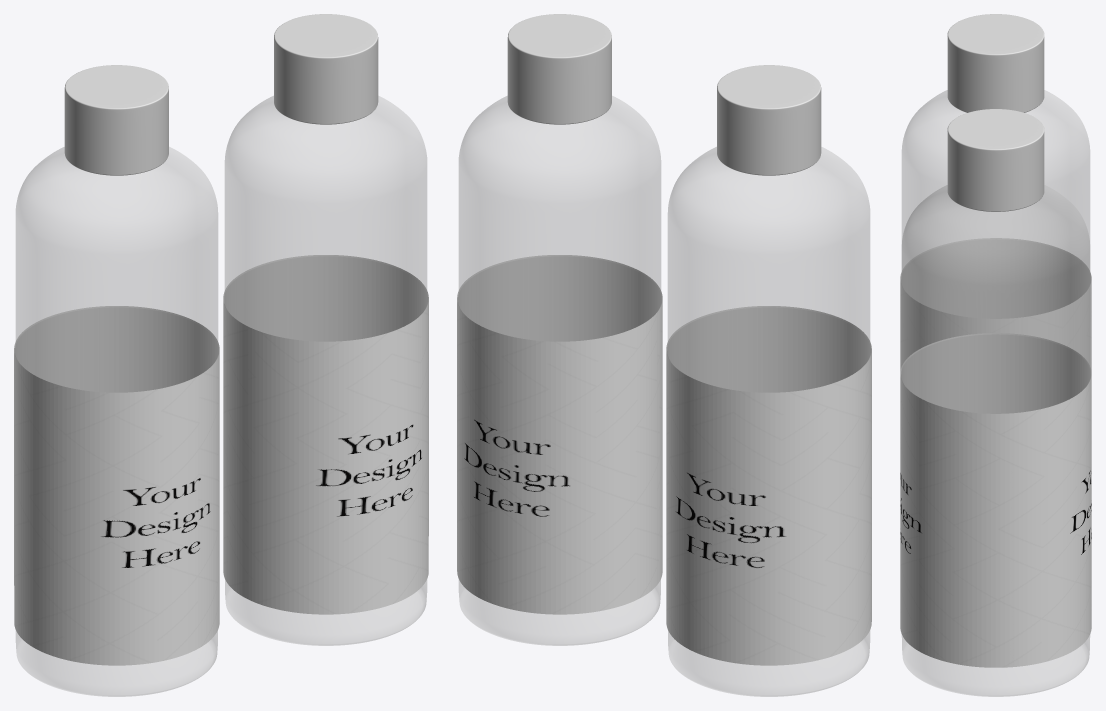
File: Glass_Bottle-A1.glb
The picture shows the model from 3 angles, left to right: view 1: azimuth 30°, elevation 25°; view 2: azimuth 150°, elevation 25°; view 3: azimuth 270°, elevation 25°; orthographic projection. The views are drawn at different scales.
Visible parts, largest first — view 1: Circle.007, Circle.005, Circle.004, Circle.006, Circle.001, Circle.008, Circle.002, Circle.003; view 2: Circle.007, Circle.005, Circle.004, Circle.006, Circle.001, Circle.008, Circle.002, Circle.003; view 3: Circle.005, Circle.004, Circle.006, Circle.001, Circle.008, Circle.003, Circle.002, Circle.007.
Part boxes in pixels (x1,y1,x2,y2): Circle.007: [14, 306, 219, 665]; Circle.005: [223, 255, 428, 614]; Circle.004: [225, 96, 426, 645]; Circle.006: [16, 147, 217, 696]; Circle.001: [224, 256, 427, 341]; Circle.008: [15, 307, 218, 392]; Circle.002: [64, 65, 168, 175]; Circle.003: [274, 14, 378, 124]; Circle.007: [666, 306, 871, 665]; Circle.005: [457, 255, 662, 614]; Circle.004: [459, 96, 660, 645]; Circle.006: [668, 147, 869, 696]; Circle.001: [458, 256, 661, 341]; Circle.008: [667, 307, 870, 392]; Circle.002: [717, 65, 821, 175]; Circle.003: [507, 14, 611, 124]; Circle.005: [900, 333, 1091, 667]; Circle.004: [902, 185, 1089, 696]; Circle.006: [902, 90, 1089, 318]; Circle.001: [901, 334, 1090, 413]; Circle.008: [901, 239, 1090, 318]; Circle.003: [947, 109, 1044, 211]; Circle.002: [947, 14, 1044, 112]; Circle.007: [900, 238, 1091, 370].
Size of the model in its own units: 4.38 by 6.16 by 2.01.
4 materials, 1 textured.
